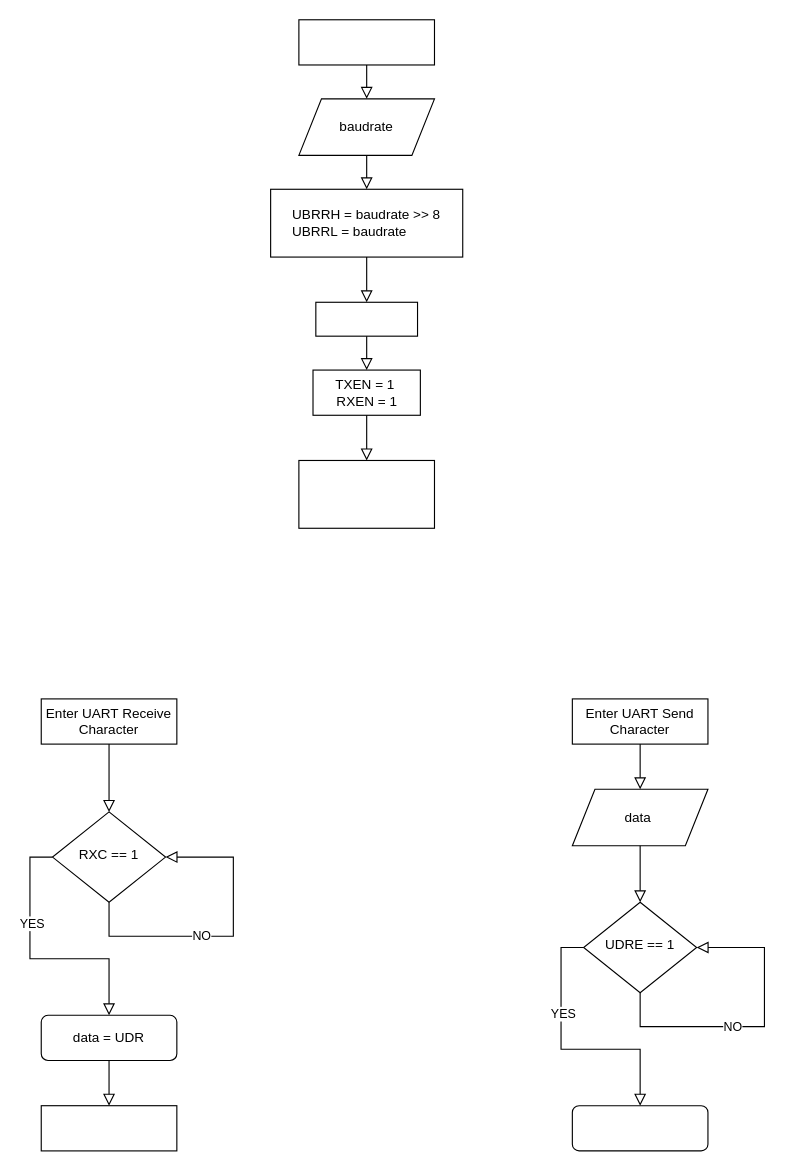
The diagram is 796 pixels wide and 1171 high, and some of its shapes have lost their labels. The centre of each missing label's shape, as x and y in pixels:
"Init UART" belongs at point (366, 42).
"Return" belongs at point (108, 1128).
"U2X = 1" belongs at point (366, 318).
"UDR = data" belongs at point (639, 1128).
"URSEL = 1 UCSZ0 = 1 UCSZ1 = 1" belongs at point (366, 493).
